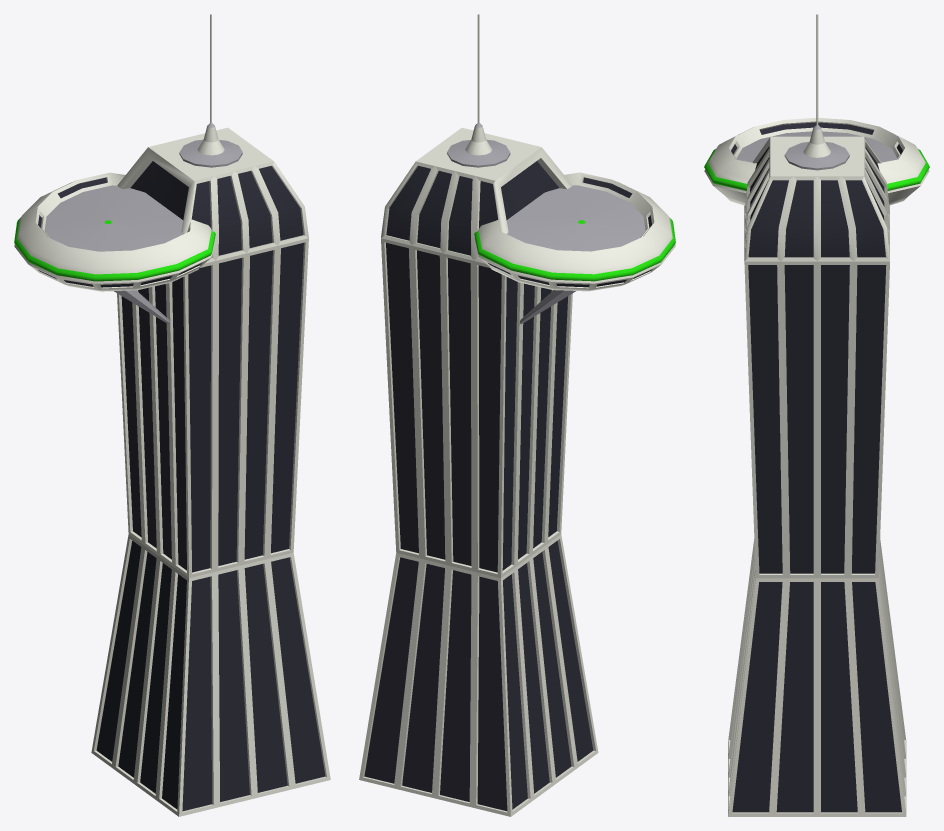
Rendered from TeleTower.FBX.
3 renders of one model, left to right at view 1: azimuth 30°, elevation 25°; view 2: azimuth 150°, elevation 25°; view 3: azimuth 270°, elevation 25°, orthographic.
Visible parts, largest first — view 1: TeleTower; view 2: TeleTower; view 3: TeleTower.
Part boxes in pixels (bbox=[...]): TeleTower: bbox=[14, 14, 330, 816]; TeleTower: bbox=[359, 14, 675, 816]; TeleTower: bbox=[704, 14, 929, 816].
Size of the model in its own units: 162 by 450 by 120.
